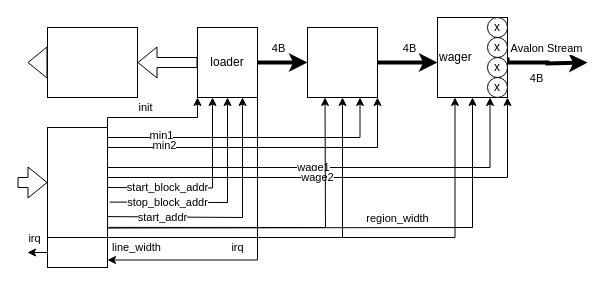
The diagram is 614 pixels wide and 286 high, and some of its shapes have lost their labels. Each missing label, with the centre of its shape:
"DMA" goes at (x=92, y=62).
"reducer" goes at (x=342, y=62).
"regs" goes at (x=77, y=182).
